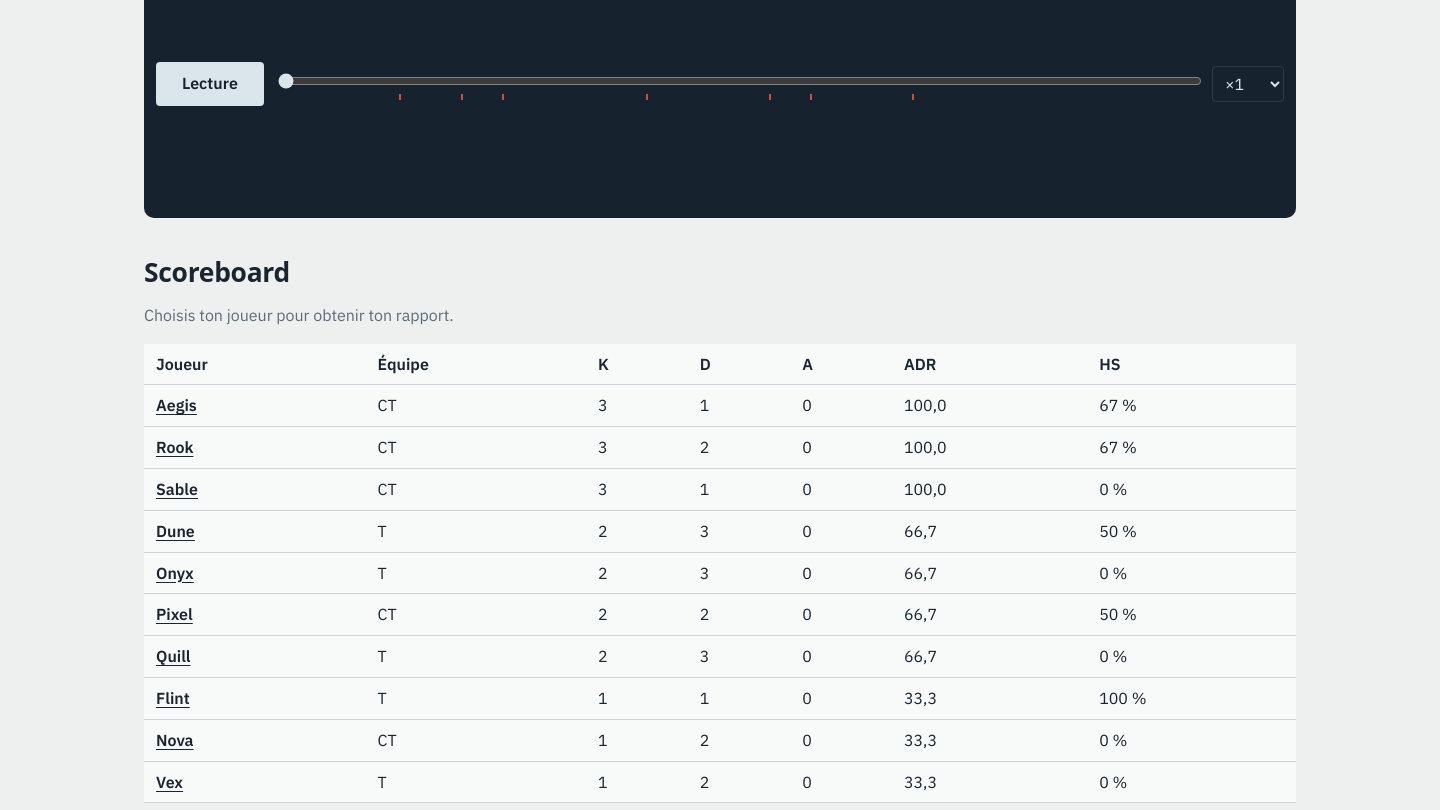
DemoPage › shows an error when the report cannot be loaded
(page scrolled)
Click the button "Aegis": (176, 406) [156,393,197,418]
(page scrolled)
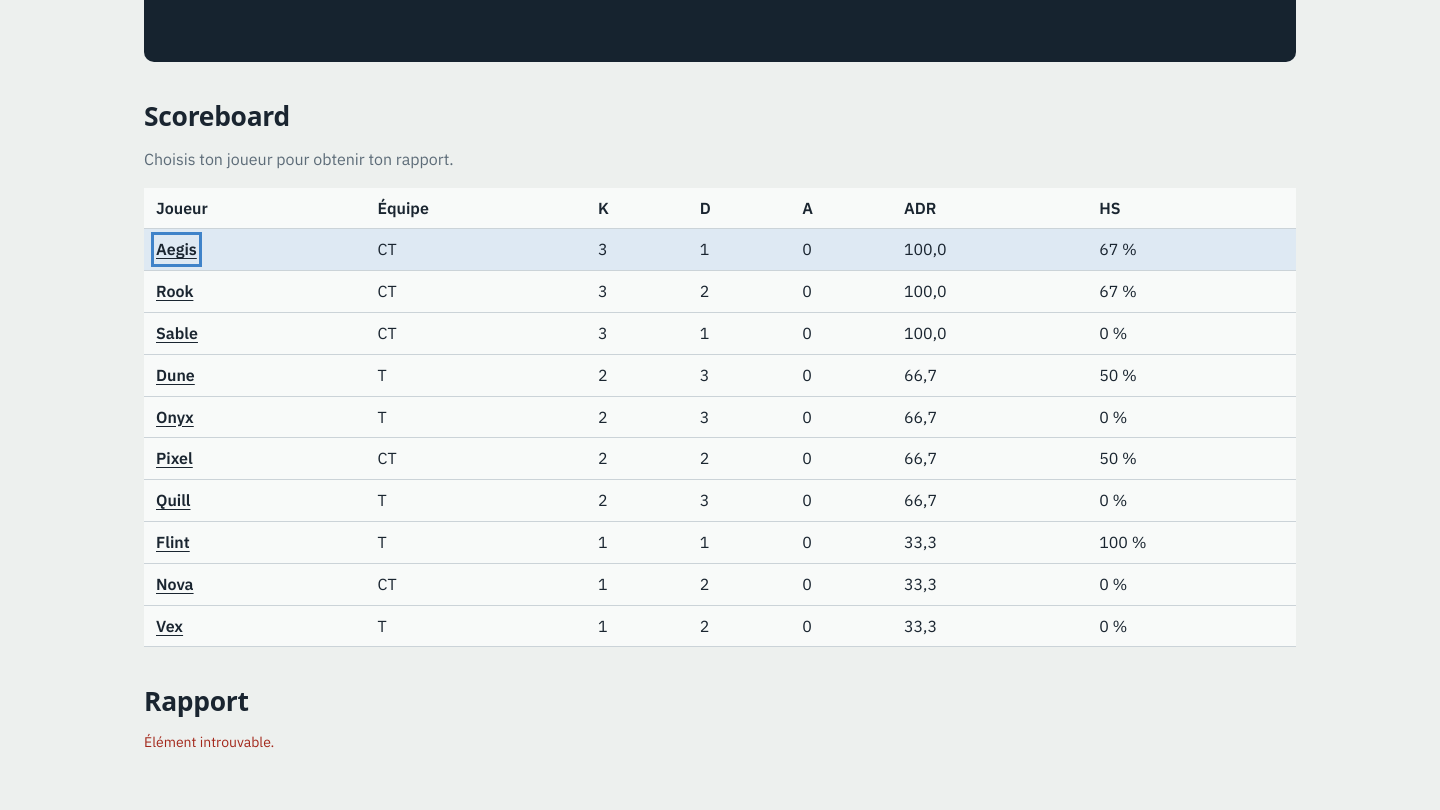
Check: the message reads "Élément introuvable.", box [144,733,274,751]
